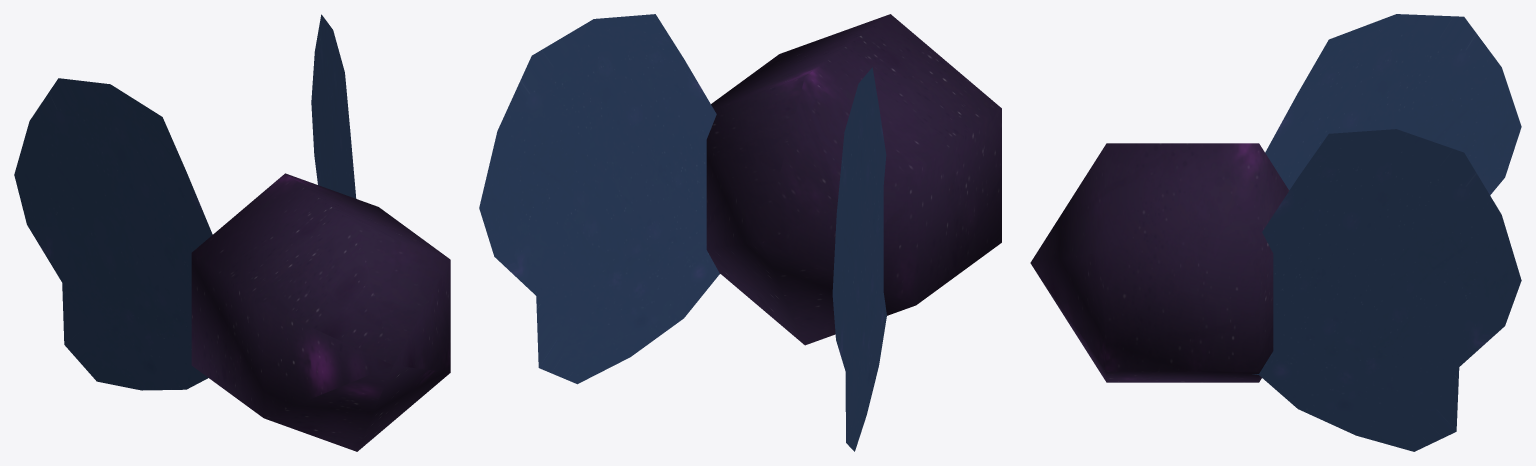
File: Grada_Debil.fbx
3 views of the same model, side by side, from view 1: azimuth 30°, elevation 25°; view 2: azimuth 150°, elevation 25°; view 3: azimuth 270°, elevation 25° (orthographic). The views are drawn at different scales.
Visible parts, largest first — view 1: Sphere001, Plane001, Plane002; view 2: Plane002, Sphere001, Plane001; view 3: Plane002, Sphere001, Plane001.
Boxes of the visible parts, x1,y1,x2,y2 form: Sphere001: (191,173,450,451); Plane001: (14,78,212,390); Plane002: (311,14,356,198); Plane002: (479,14,720,384); Sphere001: (706,14,1001,345); Plane001: (832,67,886,451); Plane002: (1252,129,1521,451); Sphere001: (1030,143,1289,382); Plane001: (1265,14,1521,195).
Bounding box in the file's own units: 882 × 857 × 1192.
Materials: 2 (2 with a texture image).
